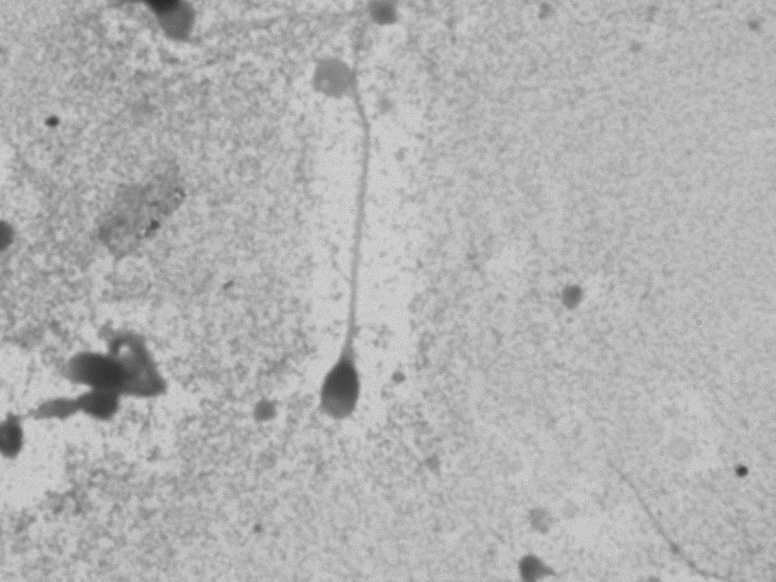Normal: (302, 13, 420, 437)
